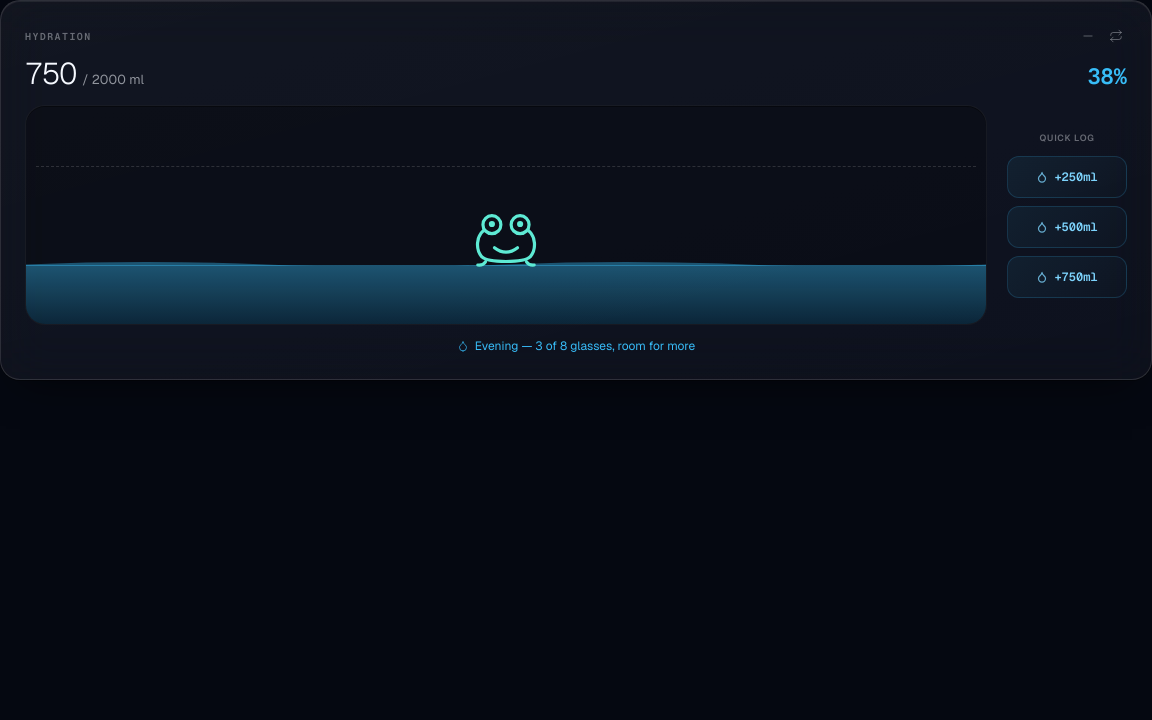
it: WaterCard › undoes the last glass
Click the button named "Undo last glass".
click(1088, 36)  # box [1077,25,1099,47]
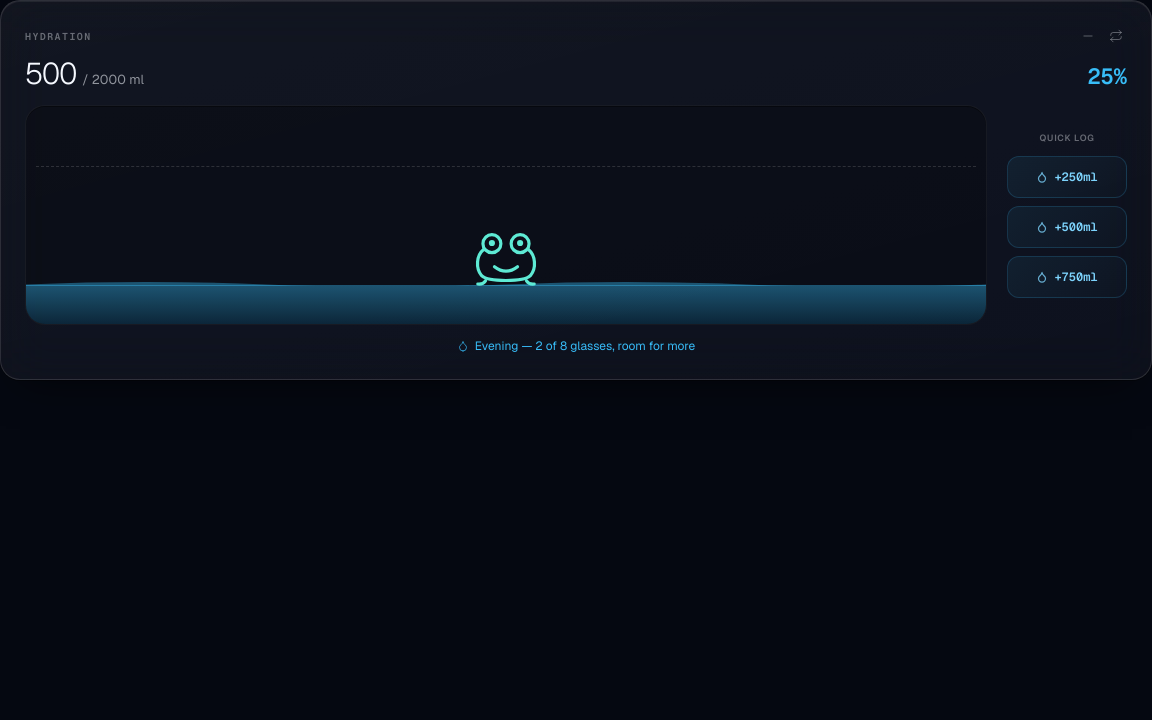
Expected: the text "500" is shown, [25,59,76,89]
